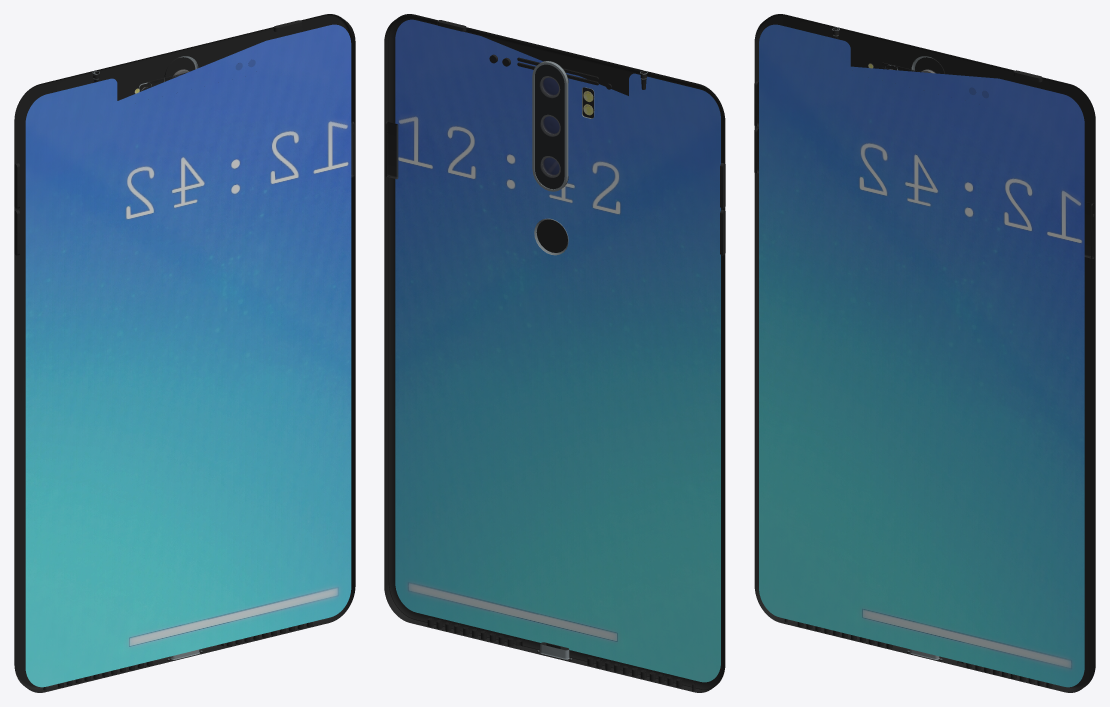
File: smartphone 3D model.fbx
3 views of the same model, side by side, from view 1: azimuth 30°, elevation 25°; view 2: azimuth 150°, elevation 25°; view 3: azimuth 330°, elevation 25° (orthographic).
Visible parts, largest first — view 1: Component_7_1; view 2: Component_7_1; view 3: Component_7_1.
Boxes of the visible parts, <box> form: Component_7_1: <box>14,14,355,692</box>; Component_7_1: <box>384,14,725,692</box>; Component_7_1: <box>754,14,1095,692</box>.
Bounding box in the file's own units: 55.54 × 95.28 × 2.46.
